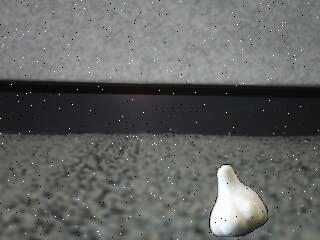Garlic: (208, 164, 270, 238)
